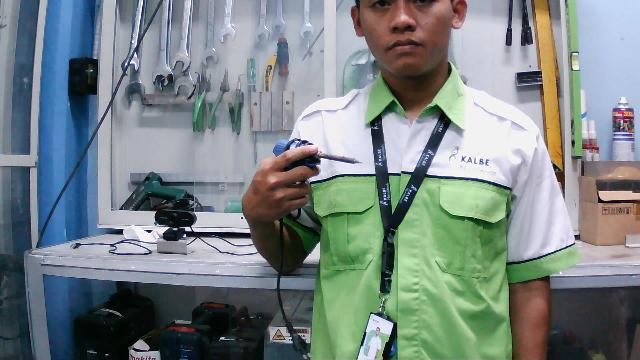solder_electrical: (269, 133, 365, 208)
